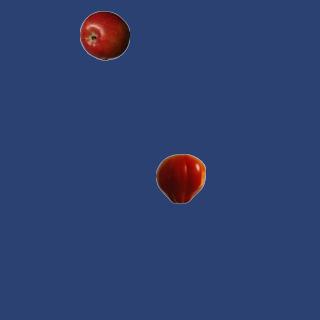Apple Braeburn: (79, 10, 129, 60)
Tomato 1: (155, 153, 205, 203)
